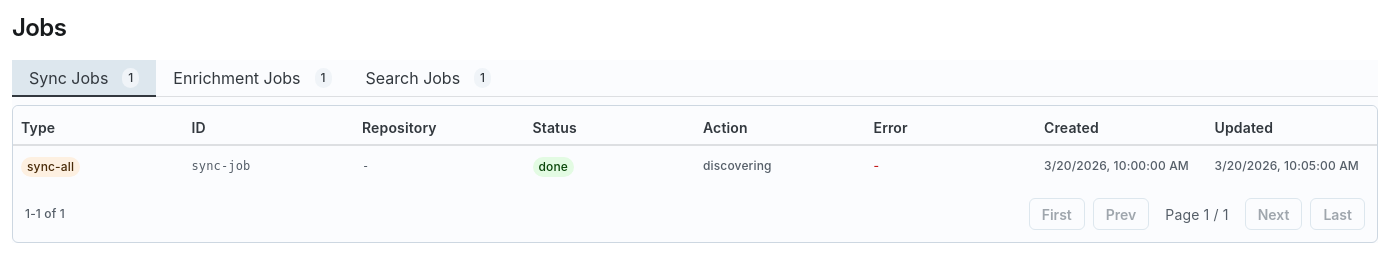
Test: AdminJobsPage › switches tabs on click
Expected: the text "sync-all" is shown, x1=27 y1=158 x2=74 y2=176
// Switch to Search Jobs tab
Click the tab "Search Jobs 1": click(428, 78) x1=348 y1=60 x2=508 y2=96
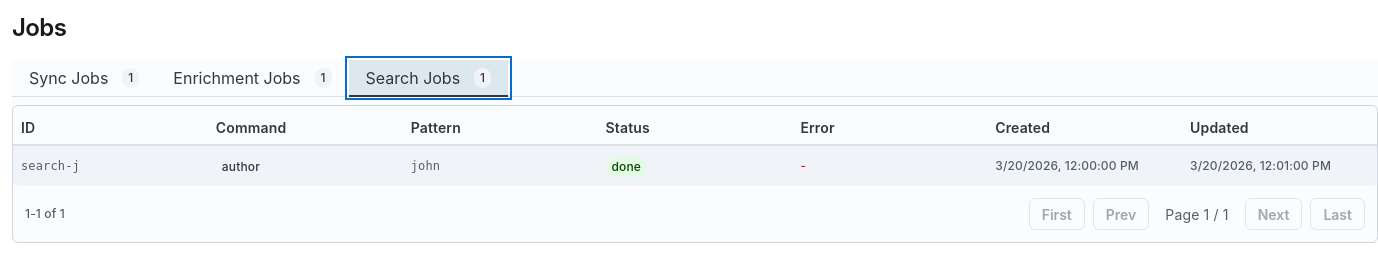
Now the text "author" is shown, box x1=222 y1=158 x2=260 y2=176
Now the text "john" is shown, box x1=411 y1=159 x2=440 y2=173
